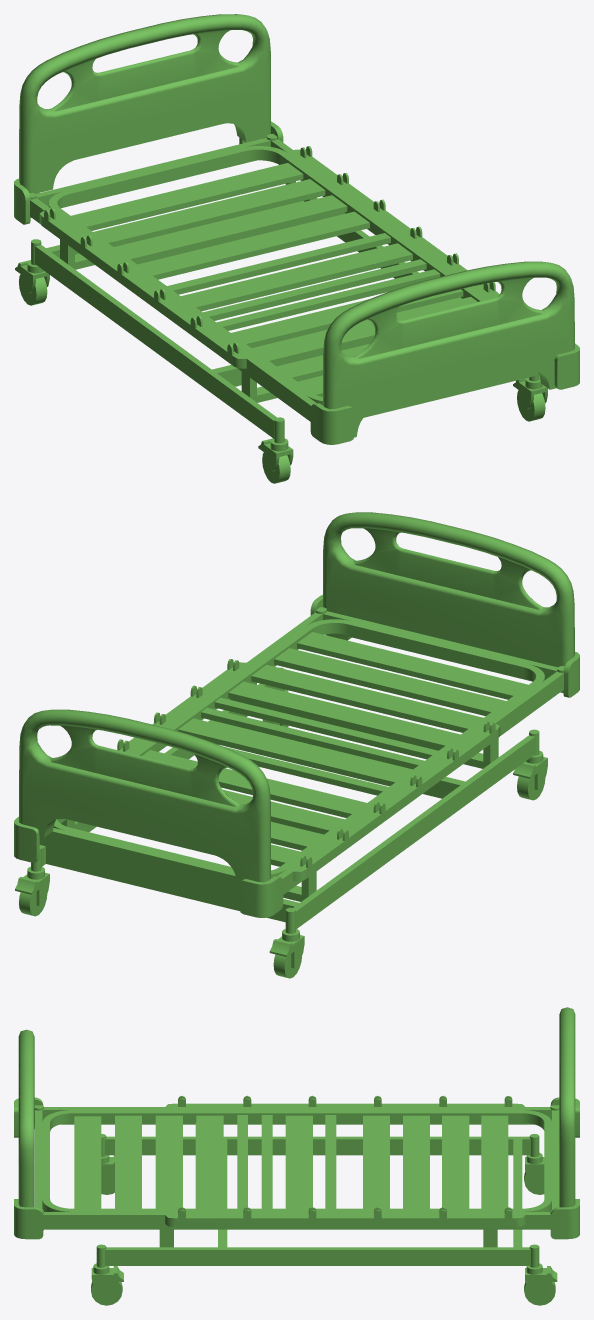
File: SM_HospitalBed_02k.FBX
3 renders of one model, top to bottom at view 1: azimuth 30°, elevation 25°; view 2: azimuth 150°, elevation 25°; view 3: azimuth 270°, elevation 25°, orthographic. The views are drawn at different scales.
Visible parts, largest first — view 1: SM_HospitalBed_02k_LOD0; view 2: SM_HospitalBed_02k_LOD0; view 3: SM_HospitalBed_02k_LOD0.
Boxes of the visible parts, x1,y1,x2,y2 form: SM_HospitalBed_02k_LOD0: (14, 14, 579, 483); SM_HospitalBed_02k_LOD0: (14, 512, 579, 978); SM_HospitalBed_02k_LOD0: (14, 1007, 579, 1305).
Size of what is drawn, in the model's own units: 109 by 89.09 by 221.
